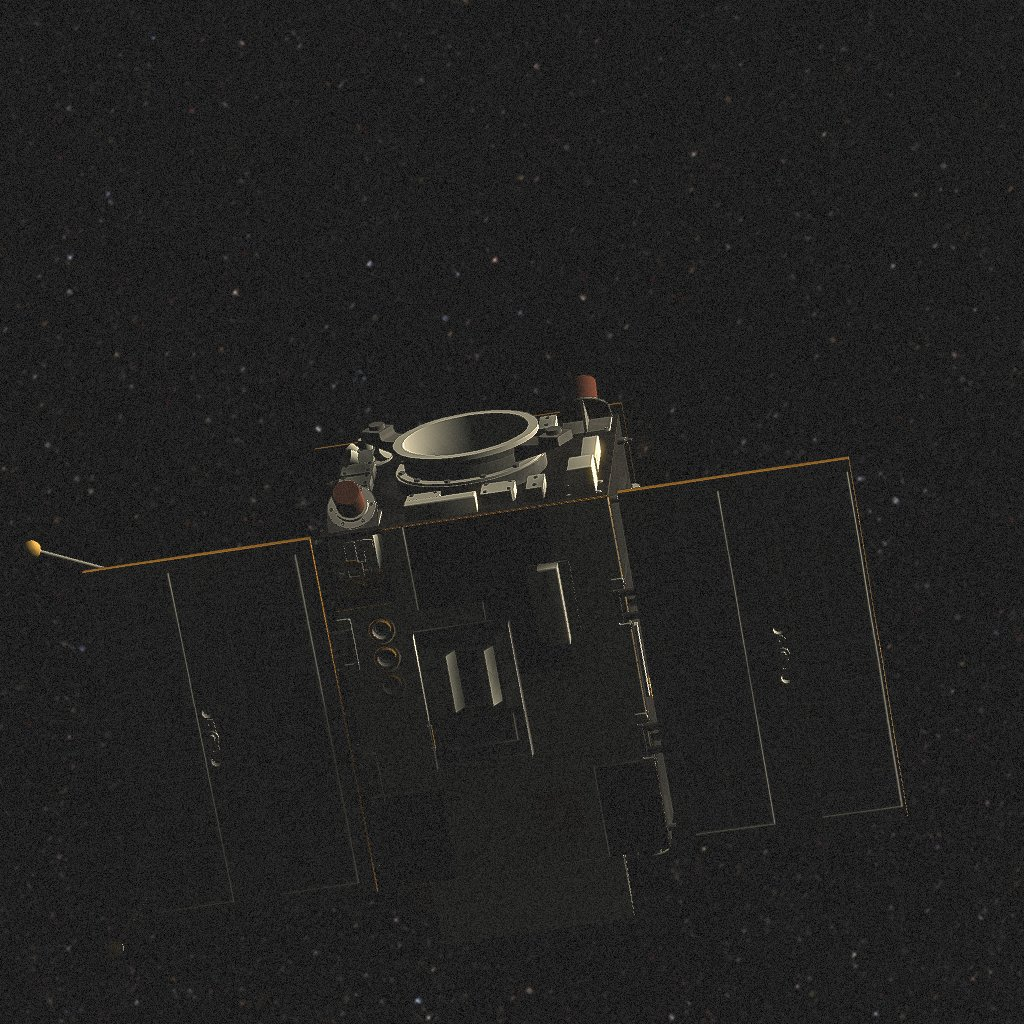proba_2: (35, 409, 942, 993)
